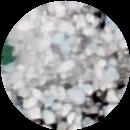Basil: (1, 0, 130, 130)
